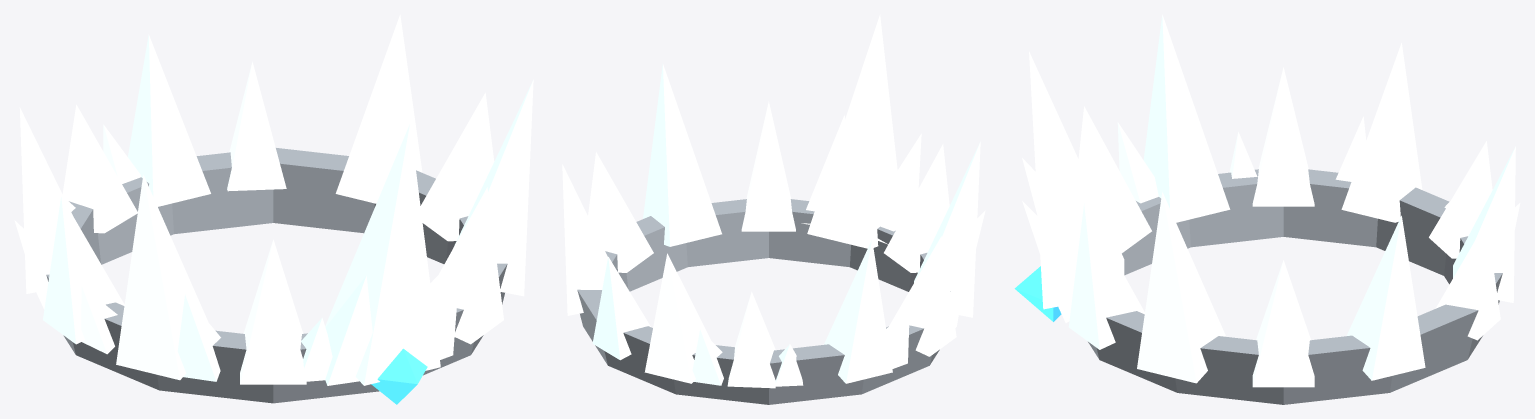
The model's file is Armor_Ice_Crown.fbx.
3 views of the same model, side by side, from view 1: azimuth 30°, elevation 25°; view 2: azimuth 150°, elevation 25°; view 3: azimuth 270°, elevation 25° (orthographic). The views are drawn at different scales.
Parts seen in each view (by area): view 1: Armor_Ice_Crown; view 2: Armor_Ice_Crown; view 3: Armor_Ice_Crown.
Boxes of the visible parts, left/top/right/bottom form: Armor_Ice_Crown: left=14, top=14, right=533, bottom=404; Armor_Ice_Crown: left=562, top=14, right=985, bottom=404; Armor_Ice_Crown: left=1014, top=14, right=1520, bottom=404.
Size of the model in its own units: 0.4746 by 0.3071 by 0.519.
